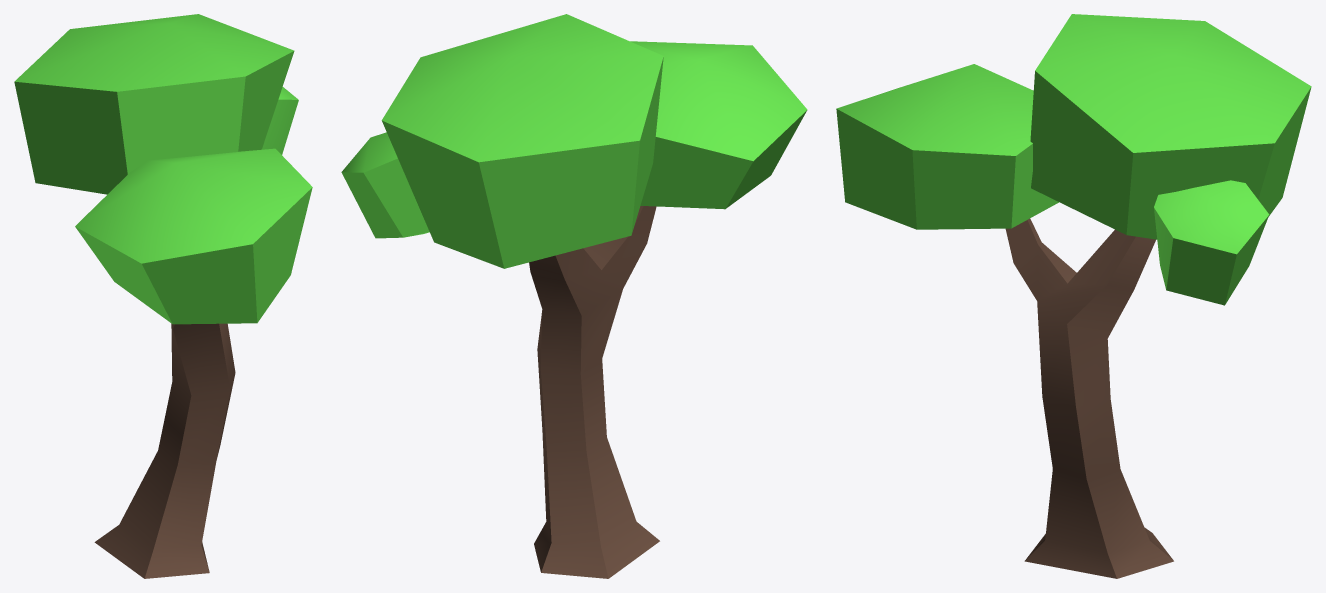
Rendered from Tree_Verdant_1.FBX.
3 renders of one model, left to right at view 1: azimuth 30°, elevation 25°; view 2: azimuth 150°, elevation 25°; view 3: azimuth 270°, elevation 25°, orthographic. The views are drawn at different scales.
Parts seen in each view (by area): view 1: Cylinder001; view 2: Cylinder001; view 3: Cylinder001.
Boxes of the visible parts, x1=… form: Cylinder001: x1=14, y1=14, x2=312, y2=578; Cylinder001: x1=341, y1=14, x2=807, y2=578; Cylinder001: x1=836, y1=14, x2=1311, y2=578.
Size of the model in its own units: 284 by 446 by 369.
